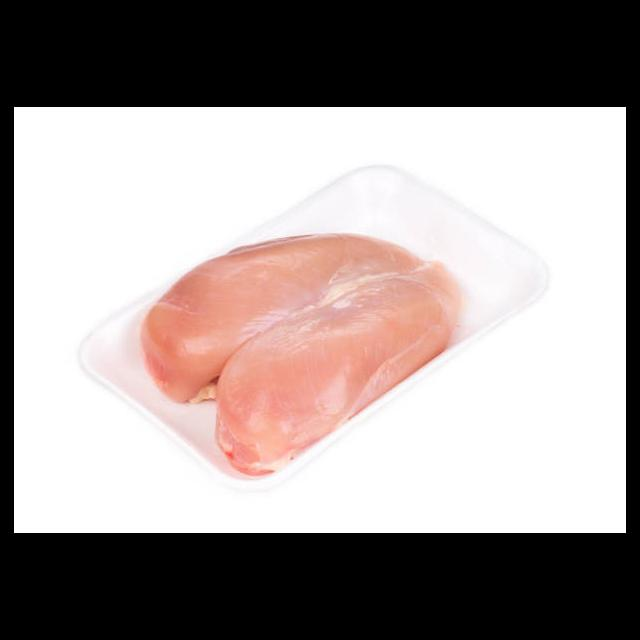chicken: (139, 235, 471, 476)
